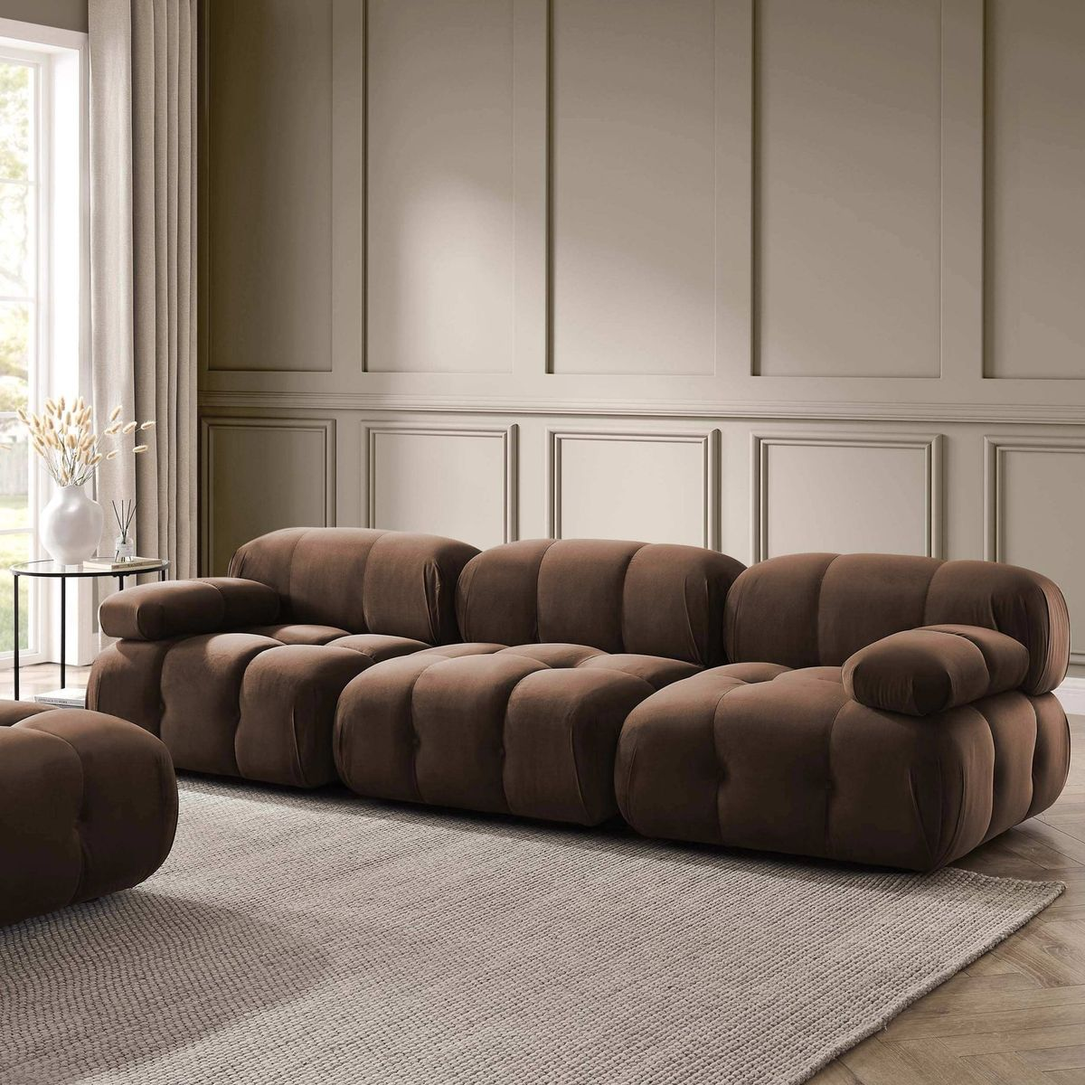3seatersofa: (89, 528, 1070, 870)
backrest: (229, 528, 1068, 692)
leftarmrest: (844, 626, 1026, 715)
rightarmrest: (100, 578, 278, 640)
seat: (89, 621, 1069, 869)
